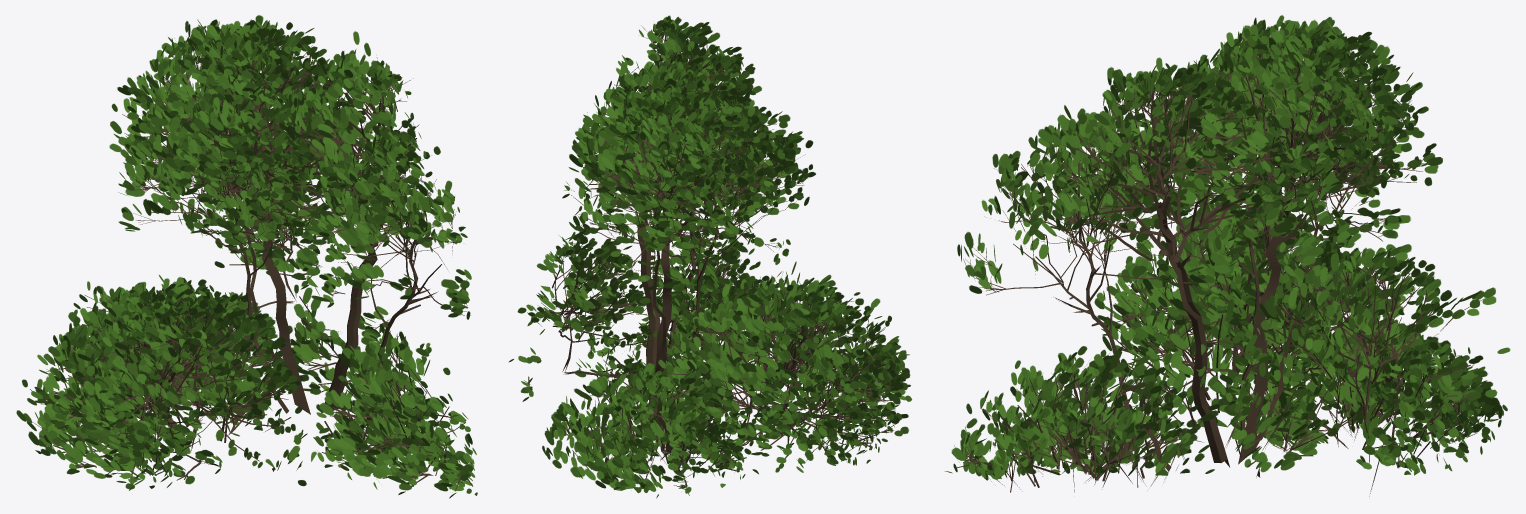
3 renders of one model, left to right at view 1: azimuth 30°, elevation 25°; view 2: azimuth 150°, elevation 25°; view 3: azimuth 270°, elevation 25°, orthographic. The views are drawn at different scales.
Parts seen in each view (by area): view 1: oak 01.001_trunk_Mat.001_0.379; view 2: oak 01.001_trunk_Mat.001_0.379; view 3: oak 01.001_trunk_Mat.001_0.379.
Part boxes in pixels (x1,y1,x2,y2): oak 01.001_trunk_Mat.001_0.379: (16,15,477,498); oak 01.001_trunk_Mat.001_0.379: (508,15,911,498); oak 01.001_trunk_Mat.001_0.379: (944,15,1510,496).
Size of the model in its own units: 2.66 by 3.15 by 3.68.
Materials: 2 (1 with a texture image).
